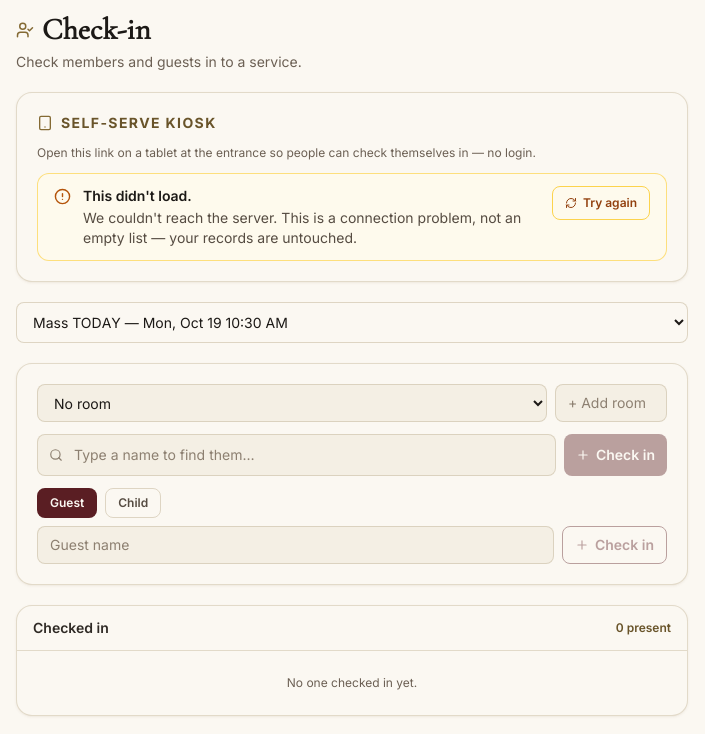
Test case: kiosk card when the kiosk setting did not load › retry reads the setting again and shows the live link without re-keying it
Expected: the text "This didn't load." is shown, [83, 187, 192, 204]
Click the button "Try again" at x=601, y=203, box [552, 186, 650, 220]
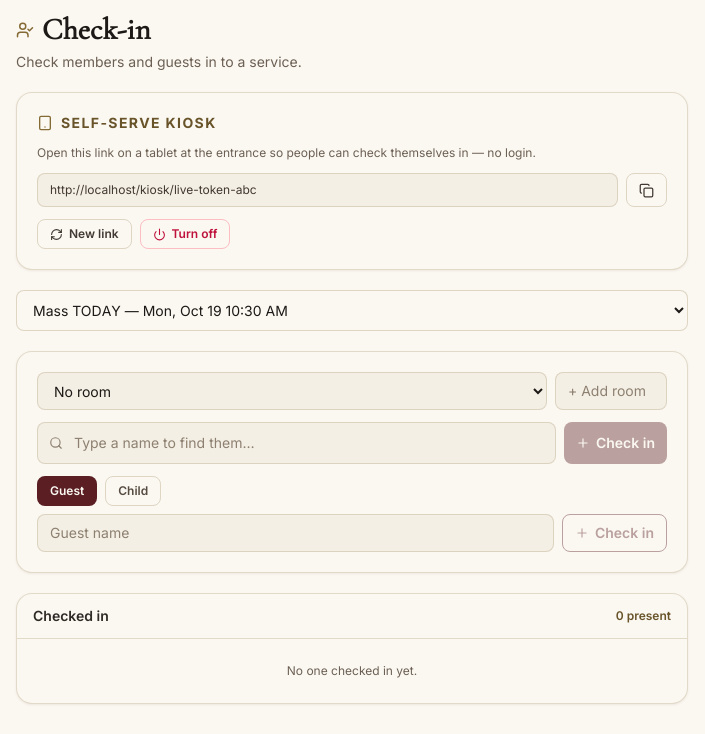
Now the field showing "/kiosk/live-token-abc" is shown, box [37, 173, 618, 207]
Now the text "This didn't load." is gone
